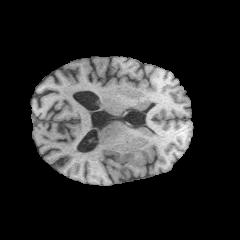glioma: (101, 146, 154, 177)
